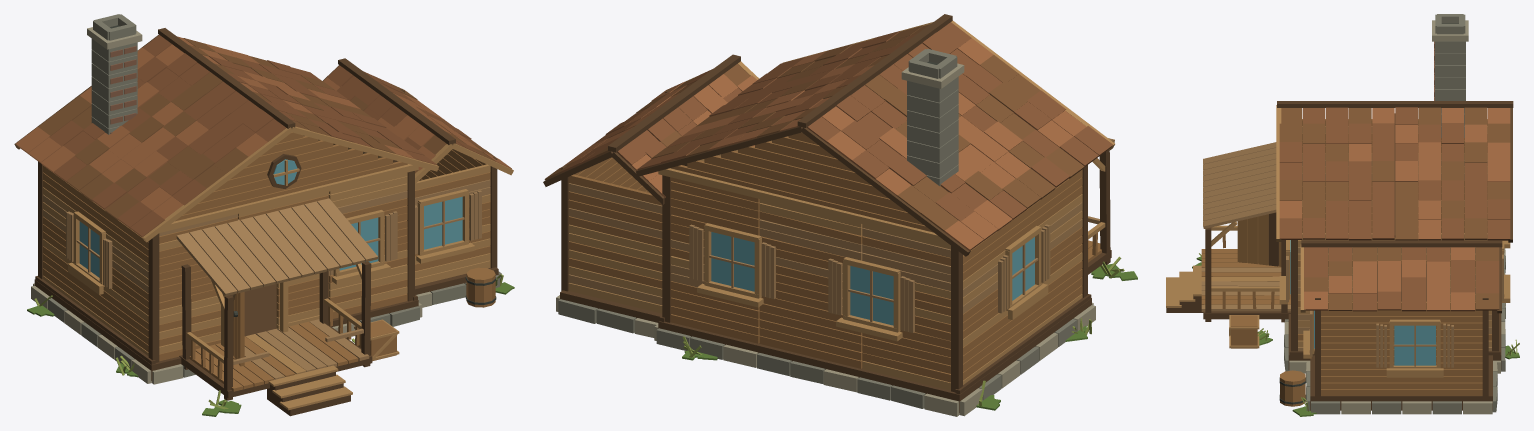
File: StarterHouseRestored.glb
The picture shows the model from 3 angles, left to right: view 1: azimuth 30°, elevation 25°; view 2: azimuth 150°, elevation 25°; view 3: azimuth 270°, elevation 25°; orthographic projection. The views are drawn at different scales.
Visible parts, largest first — view 1: HR_Walls_Timber, HR_Roof_Roof, HR_Porch_FadedWood, HR_Walls_HoneyWood, HR_Roof_RoofMoss, HR_Roof_RoofLight, HR_Porch_DarkWood, HR_Walls_DarkWood, HR_Windows_HoneyWood, HR_Chimney_Stone, HR_Foundation_DarkWood, HR_Porch_Timber (+19 smaller); view 2: HR_Walls_Timber, HR_Roof_Roof, HR_Walls_HoneyWood, HR_Roof_RoofMoss, HR_Roof_RoofLight, HR_Walls_FadedWood, HR_Windows_HoneyWood, HR_Chimney_Stone, HR_Walls_DarkWood, HR_Foundation_Stone, HR_Windows_FadedWood, HR_Windows_Glass (+12 smaller); view 3: HR_Roof_Roof, HR_Walls_Timber, HR_Roof_RoofMoss, HR_Porch_FadedWood, HR_Roof_RoofLight, HR_WingRoof_Roof, HR_WingRoof_RoofLight, HR_WingRoof_RoofMoss, HR_Chimney_Stone, HR_Windows_HoneyWood, HR_Walls_DarkWood, HR_Roof_DarkWood (+18 smaller).
Boxes of the visible parts, <box> form: HR_Walls_Timber: <box>43,132,490,361</box>; HR_Roof_Roof: <box>49,35,437,236</box>; HR_Porch_FadedWood: <box>176,198,377,379</box>; HR_Walls_HoneyWood: <box>43,139,490,356</box>; HR_Roof_RoofMoss: <box>38,38,401,220</box>; HR_Roof_RoofLight: <box>16,36,416,219</box>; HR_Porch_DarkWood: <box>179,261,372,416</box>; HR_Walls_DarkWood: <box>35,89,497,364</box>; HR_Windows_HoneyWood: <box>68,160,475,294</box>; HR_Chimney_Stone: <box>91,14,137,134</box>; HR_Foundation_DarkWood: <box>34,267,498,380</box>; HR_Porch_Timber: <box>189,306,359,391</box>; HR_Walls_Timber: <box>568,132,1082,382</box>; HR_Roof_Roof: <box>637,22,1112,221</box>; HR_Walls_HoneyWood: <box>568,140,1082,390</box>; HR_Roof_RoofMoss: <box>651,24,1084,231</box>; HR_Roof_RoofLight: <box>681,38,1086,250</box>; HR_Walls_FadedWood: <box>568,154,1082,313</box>; HR_Windows_HoneyWood: <box>697,223,1048,341</box>; HR_Chimney_Stone: <box>907,49,958,185</box>; HR_Walls_DarkWood: <box>561,89,1091,394</box>; HR_Foundation_Stone: <box>558,299,1077,408</box>; HR_Windows_FadedWood: <box>689,224,1050,332</box>; HR_Windows_Glass: <box>711,232,1034,325</box>; HR_Roof_Roof: <box>1279,107,1510,240</box>; HR_Walls_Timber: <box>1298,119,1491,395</box>; HR_Roof_RoofMoss: <box>1279,107,1510,240</box>; HR_Porch_FadedWood: <box>1201,142,1290,311</box>; HR_Roof_RoofLight: <box>1279,108,1510,240</box>; HR_WingRoof_Roof: <box>1304,247,1499,311</box>; HR_WingRoof_RoofLight: <box>1304,247,1474,311</box>; HR_WingRoof_RoofMoss: <box>1304,247,1499,310</box>; HR_Chimney_Stone: <box>1435,14,1465,137</box>; HR_Windows_HoneyWood: <box>1279,240,1510,377</box>; HR_Walls_DarkWood: <box>1289,240,1500,398</box>; HR_Roof_DarkWood: <box>1277,101,1513,242</box>.
Size of the model in its own units: 6.81 by 4.74 by 5.91.
